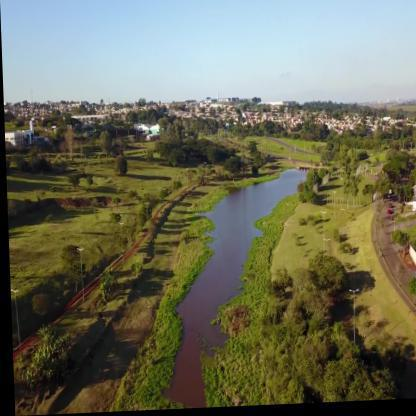agua: (165, 260, 242, 410), (204, 194, 259, 288)
